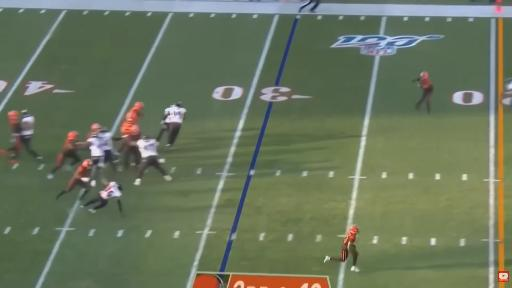Helmet: (8, 111, 18, 123), (127, 113, 138, 122), (68, 131, 78, 139), (82, 159, 92, 167), (131, 125, 139, 134), (8, 111, 18, 118), (91, 124, 101, 131), (505, 79, 511, 90), (350, 225, 358, 233), (134, 102, 143, 109), (421, 72, 428, 79), (90, 131, 98, 137), (99, 127, 107, 132), (174, 102, 182, 107), (21, 110, 28, 115), (118, 184, 123, 190), (142, 135, 147, 139)
Jersey: (137, 139, 157, 157), (100, 182, 121, 199), (165, 106, 186, 123), (87, 137, 104, 157), (97, 131, 113, 151), (21, 115, 34, 135), (124, 134, 140, 150), (120, 120, 134, 135), (10, 122, 22, 137), (75, 166, 90, 178), (343, 232, 356, 245), (63, 140, 77, 152), (420, 78, 431, 89), (130, 108, 141, 116)
Player: (7, 111, 43, 169), (134, 136, 171, 185), (47, 131, 80, 179), (324, 226, 359, 271), (56, 159, 92, 199), (82, 180, 122, 214), (157, 102, 186, 148), (21, 110, 43, 169), (2, 111, 21, 168), (97, 128, 122, 170), (87, 133, 104, 186), (413, 72, 433, 113), (123, 125, 141, 169), (126, 102, 143, 124), (87, 124, 101, 138), (121, 120, 133, 135), (504, 79, 511, 96)
